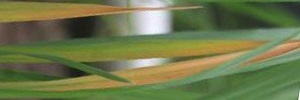RiceTungro: (47, 60, 239, 95), (1, 1, 210, 22)
